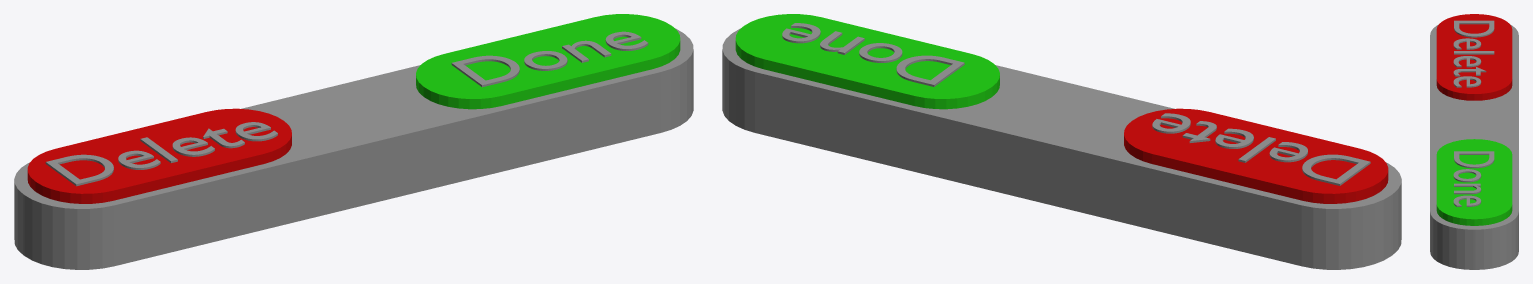
Rendered from Delete-Done Button.fbx.
3 views of the same model, side by side, from view 1: azimuth 30°, elevation 25°; view 2: azimuth 150°, elevation 25°; view 3: azimuth 270°, elevation 25° (orthographic). The views are drawn at different scales.
Visible parts, largest first — view 1: Delete-Done Controller, Done Button, Delete Button, Delete Text, Done Text; view 2: Delete-Done Controller, Done Button, Delete Button, Delete Text, Done Text; view 3: Delete-Done Controller, Done Button, Delete Button, Delete Text, Done Text.
Boxes of the visible parts, box(x1,y1,x2,y2) form: Delete-Done Controller: box(14, 28, 693, 269); Done Button: box(416, 14, 680, 109); Delete Button: box(27, 108, 291, 203); Delete Text: box(45, 122, 277, 186); Done Text: box(451, 31, 648, 87); Delete-Done Controller: box(722, 28, 1401, 269); Done Button: box(735, 14, 999, 109); Delete Button: box(1124, 108, 1388, 203); Delete Text: box(1152, 113, 1370, 185); Done Text: box(782, 23, 964, 86); Delete-Done Controller: box(1430, 24, 1518, 269); Done Button: box(1436, 139, 1512, 225); Delete Button: box(1436, 14, 1512, 100); Delete Text: box(1453, 20, 1494, 87); Done Text: box(1453, 151, 1494, 206).
Size of the model in its own units: 170 by 18.1 by 30.
